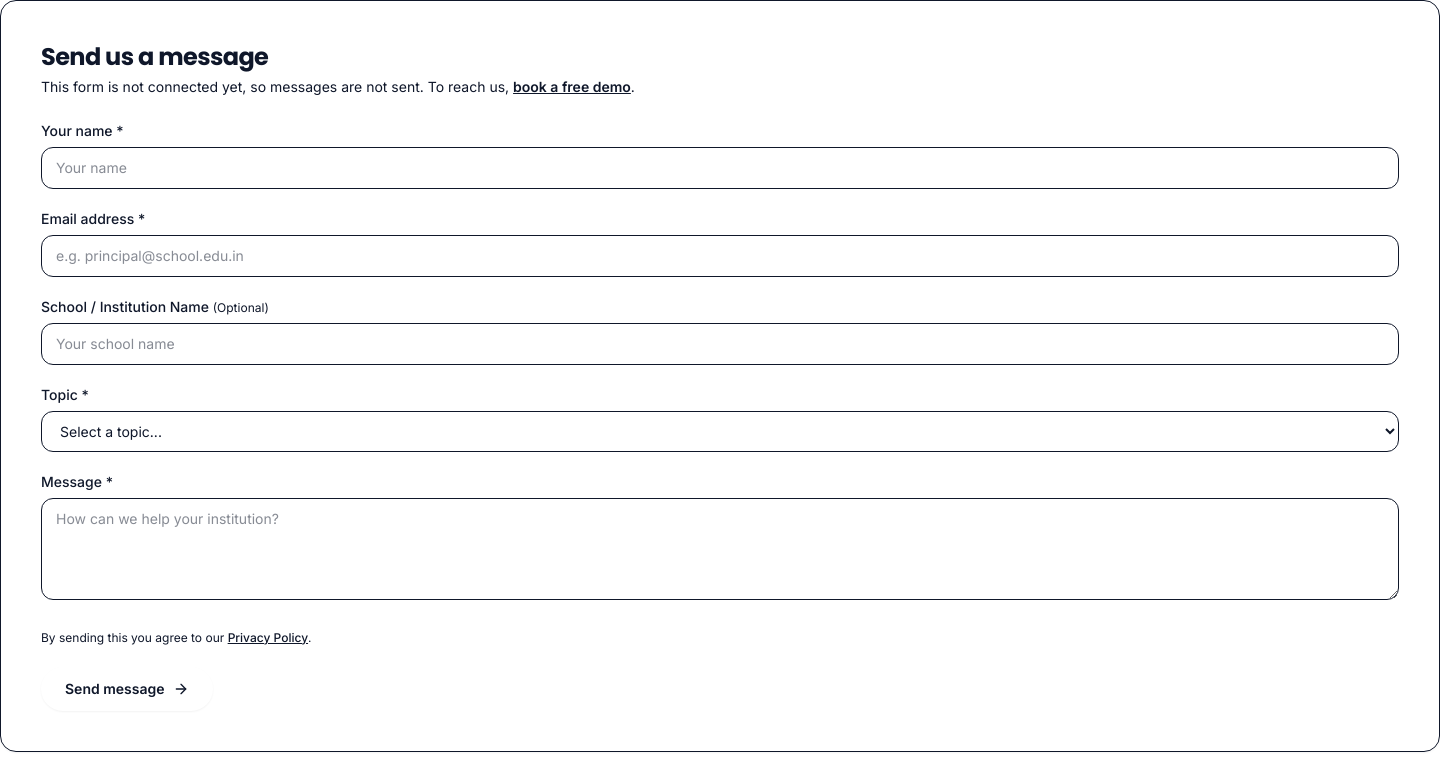
Test: Lead Forms Unit Tests (Contact & Demo) › Flag OFF (siteConfig.hasLeadBackend = false) › renders contact form with all expected fields and zero network requests on submit
Expected: the heading "Send us a message" is shown, [41,40,268,73]
Expected: the field labelled "Email address *" is shown, [41,235,1399,277]
Submit valid data
In the field labelled "Your name *": (720, 168) [41,147,1399,189], type "Anita Sharma"
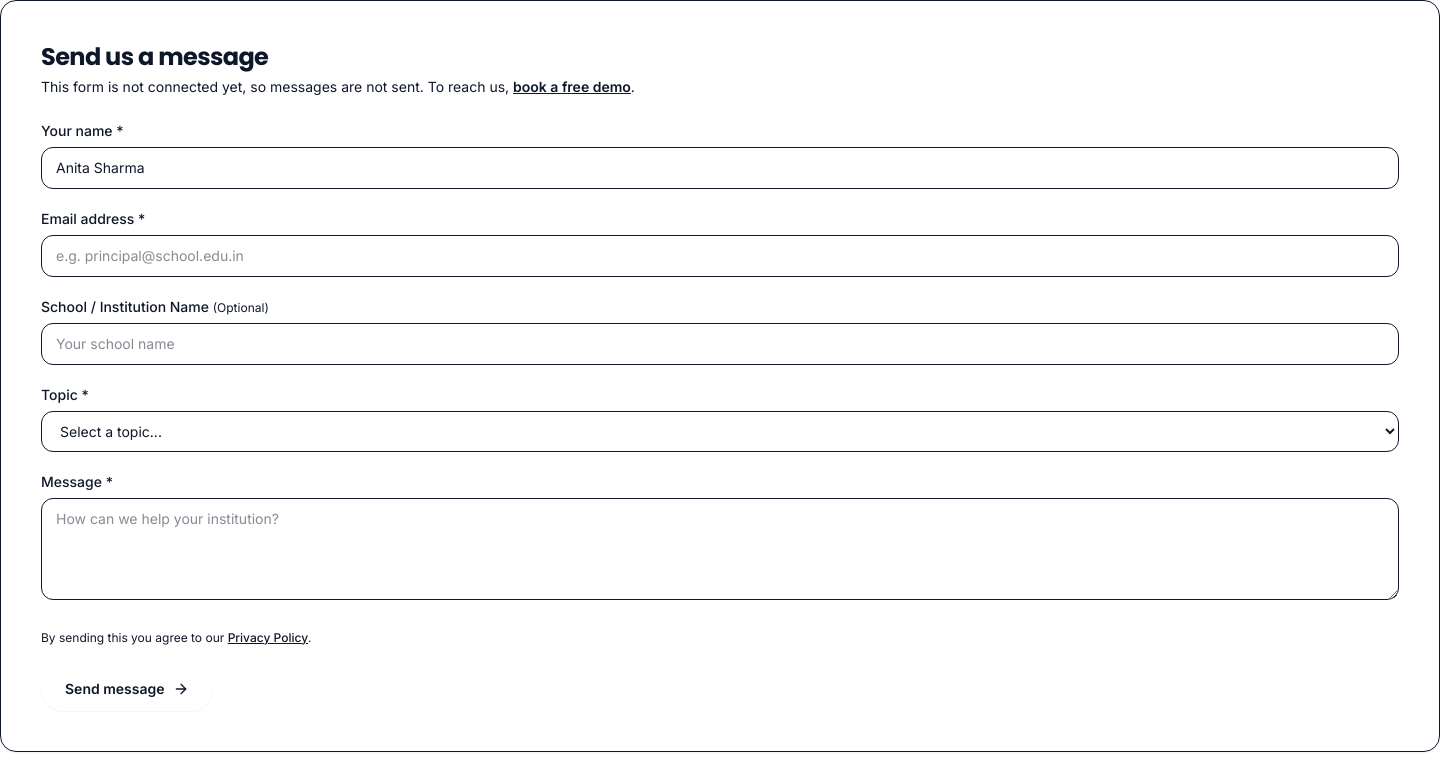
In the field labelled "Email address *": (720, 256) [41,235,1399,277], type "anita@school.edu.in"
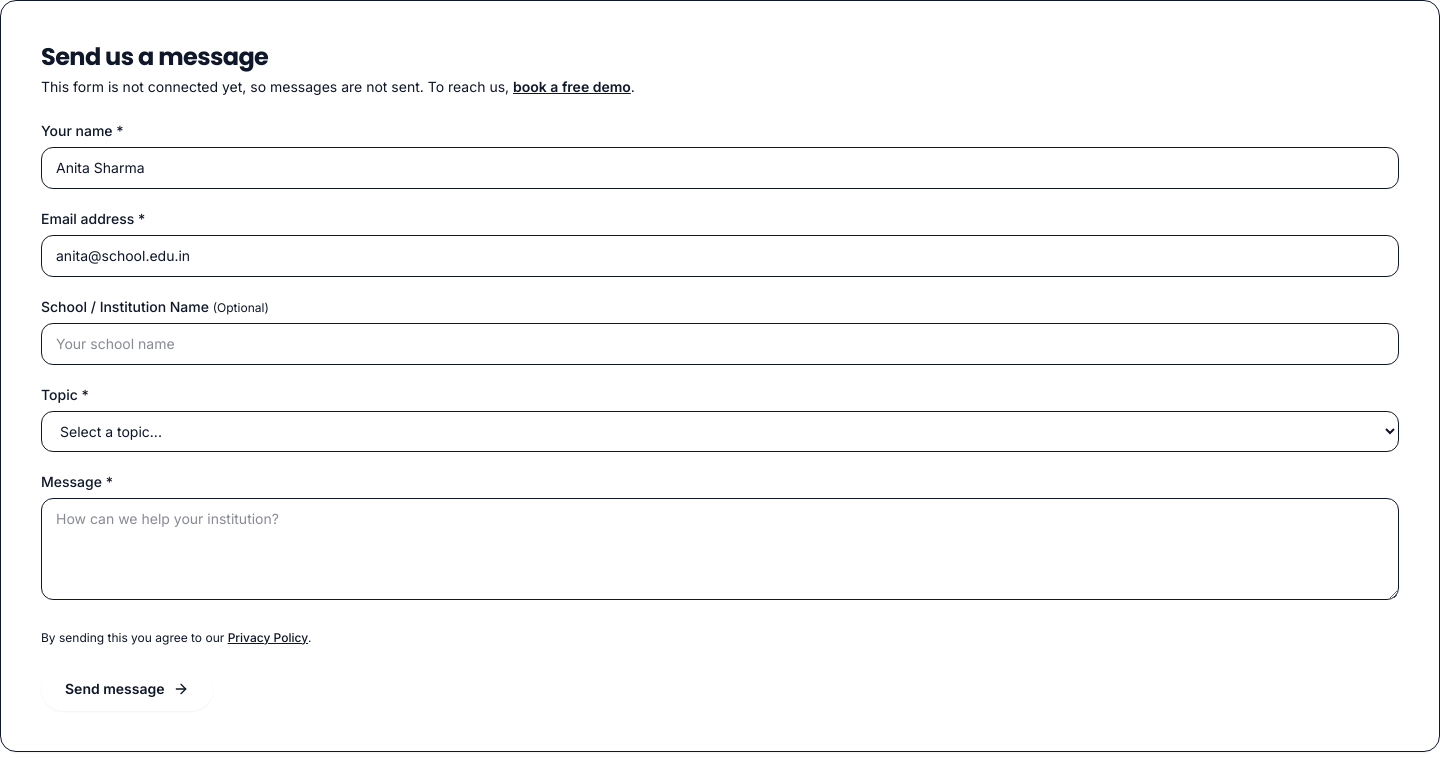
Select "General Inquiry" in the dropdown labelled "Topic *": (720, 432) [41,411,1399,452]
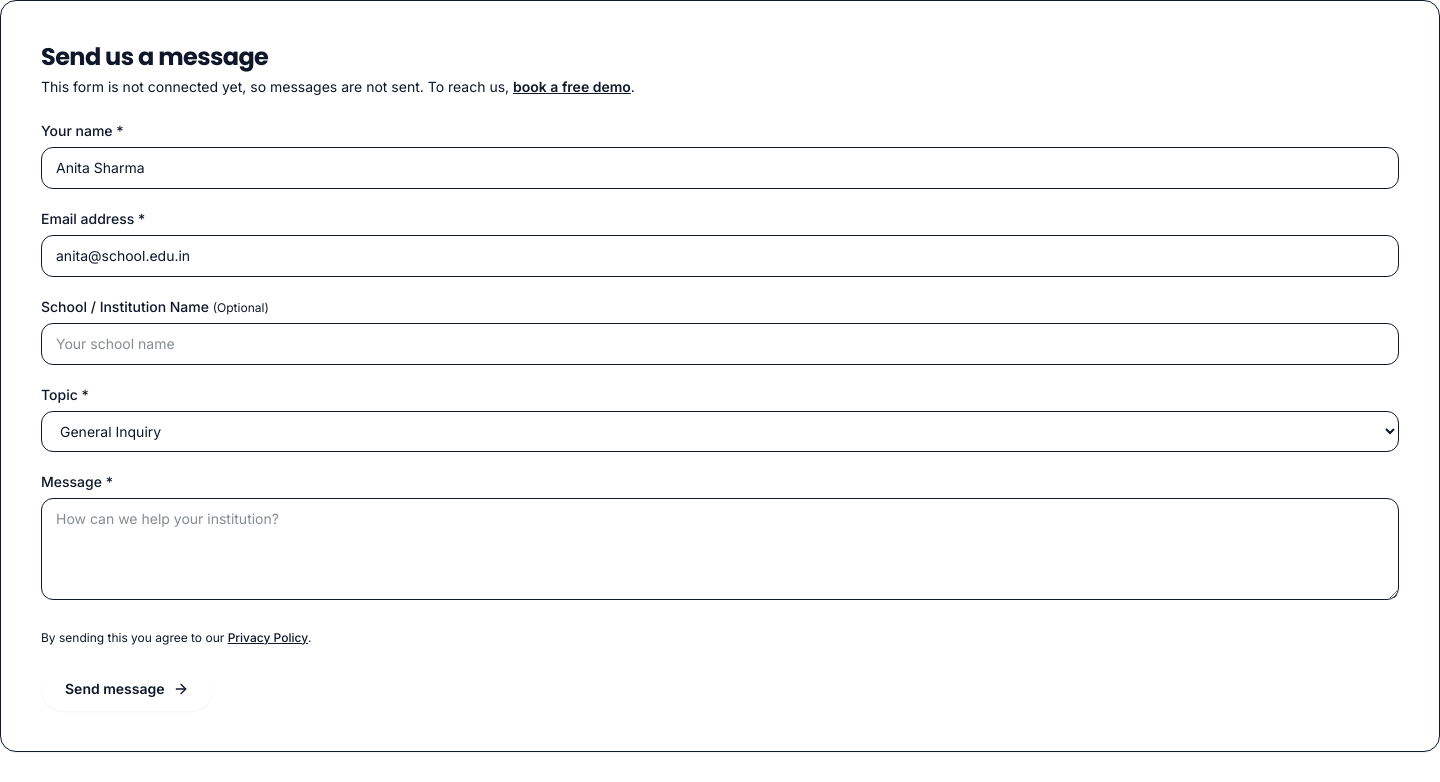
In the text box labelled "Message *": (720, 549) [41,498,1399,600], type "Testing the offline submission behavior."
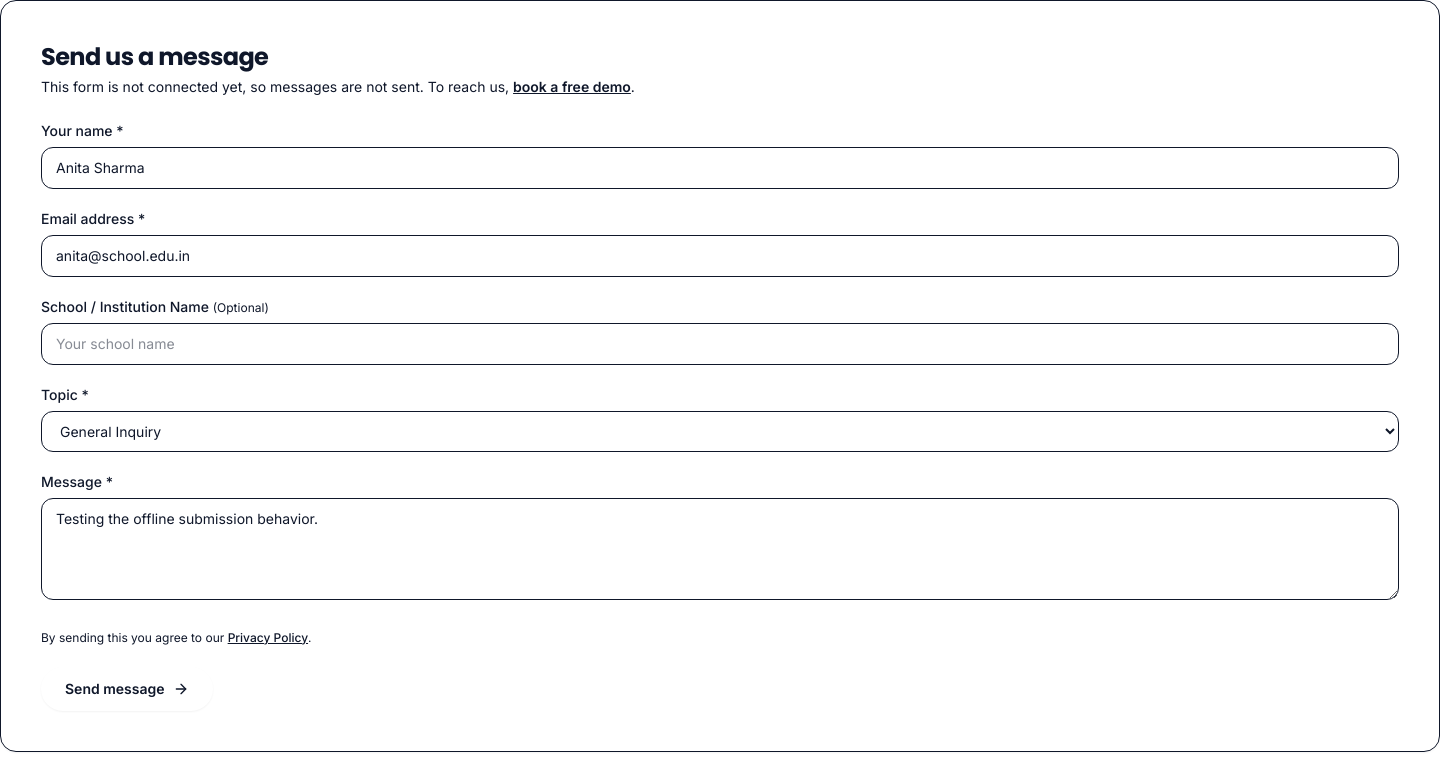
Click the button "Send message": (127, 689) [41,667,213,711]
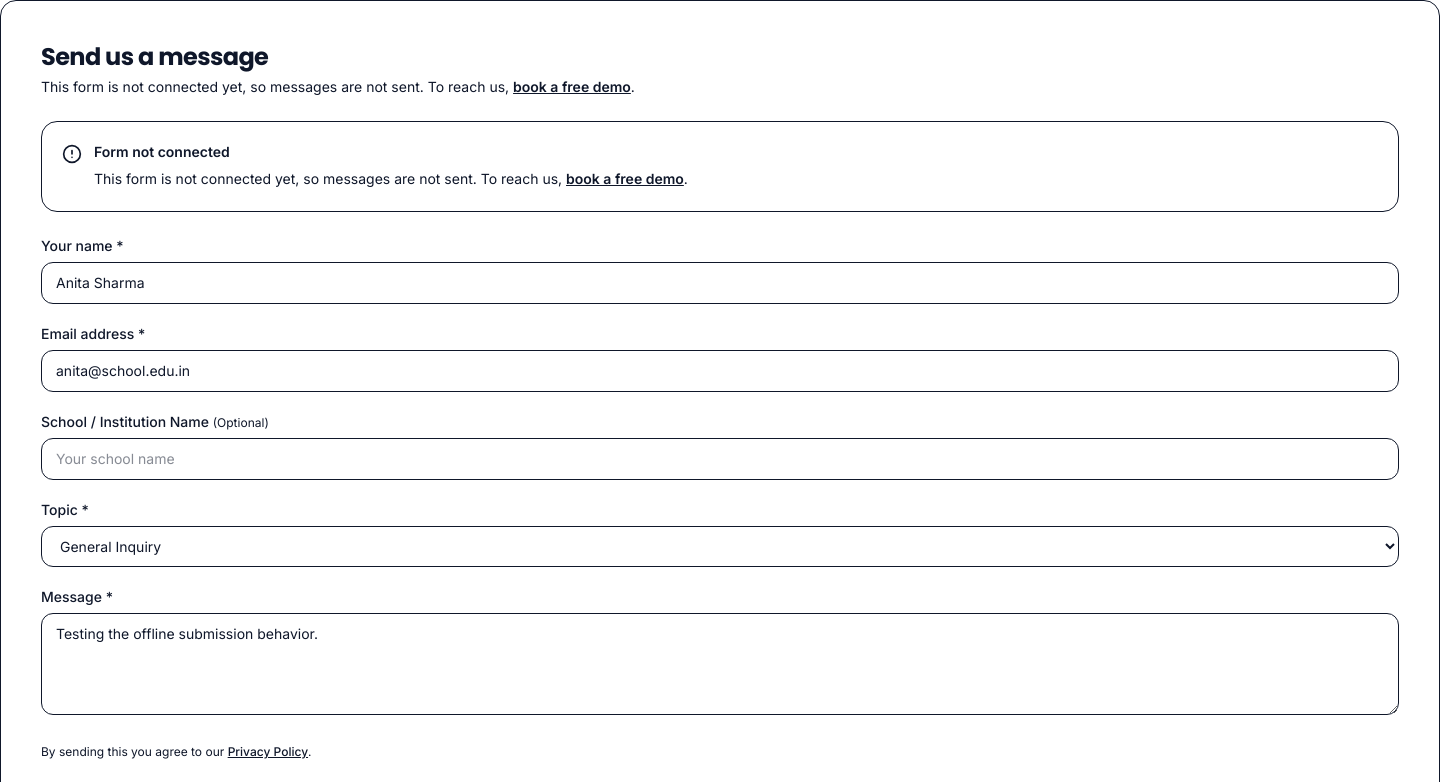
Now the message with test id "contact-submission-notice" is shown, box [41,121,1399,212]
Now the text "Form not connected" is shown, box [94,143,230,160]
